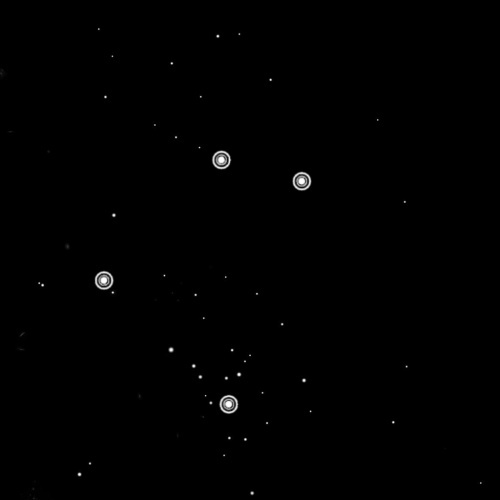coma_berenices: (88, 142, 323, 422)
